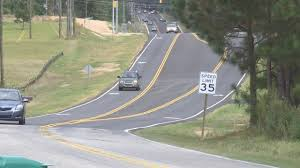speedLimit35: (197, 70, 217, 97)
